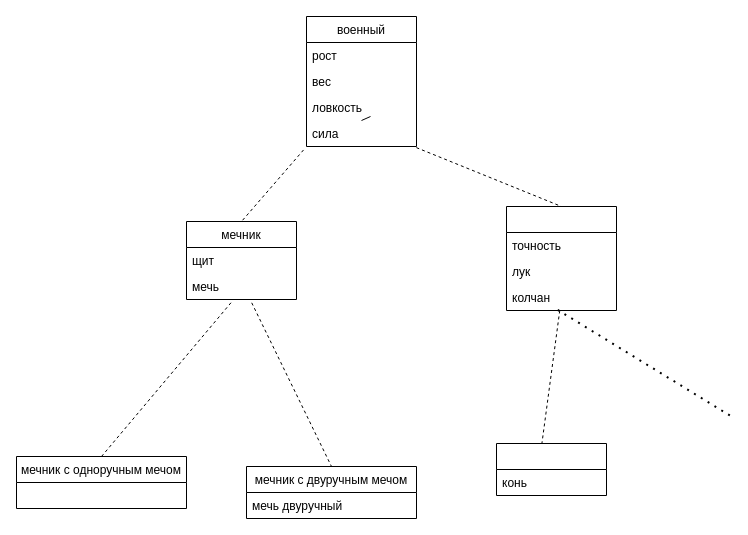
This 748x535 diagram has some shape labels left out. Here are the shapes that lost their labels. From the top down, the box of each, then its label:
(506, 206, 616, 310): лучник
(496, 442, 606, 496): лучник на коне
